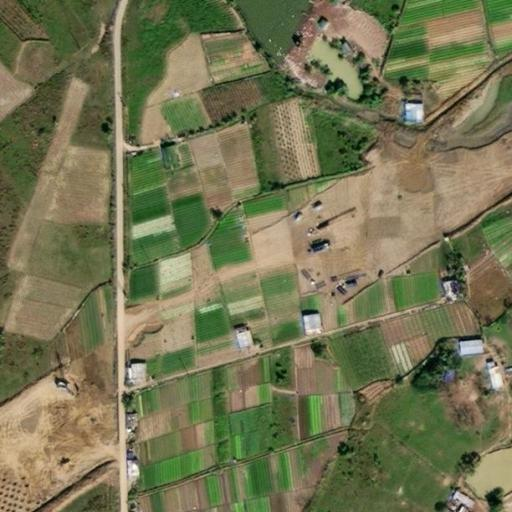building: (400, 98, 423, 122), (231, 321, 252, 347), (299, 307, 322, 330), (295, 335, 320, 356), (477, 359, 495, 388), (125, 358, 146, 380), (444, 485, 463, 503), (433, 279, 450, 298), (449, 339, 472, 353)
